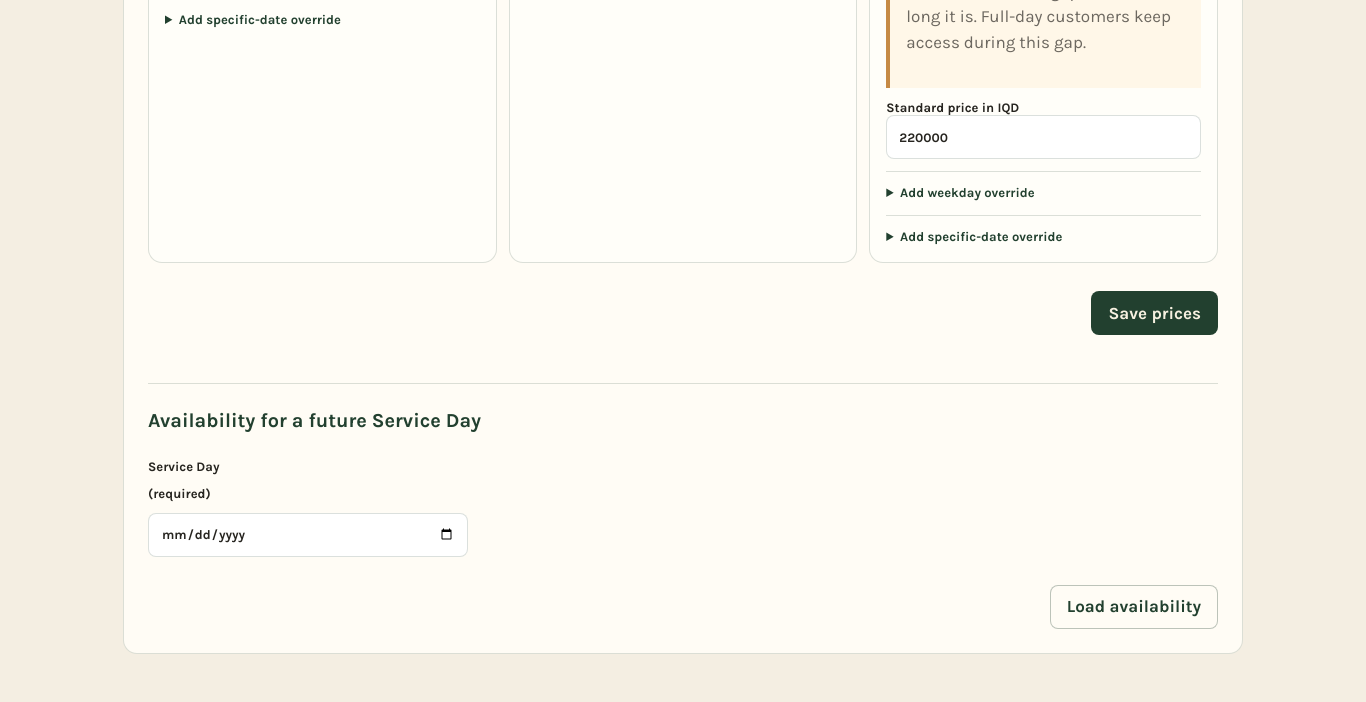
Test: Cottage Pricing and Availability editor › shows only the authoritative states returned for the selected Service Day
(page scrolled)
In the date field labelled "Service Day (required)": (308, 535) [148,513,468,557], type "2099-08-20"
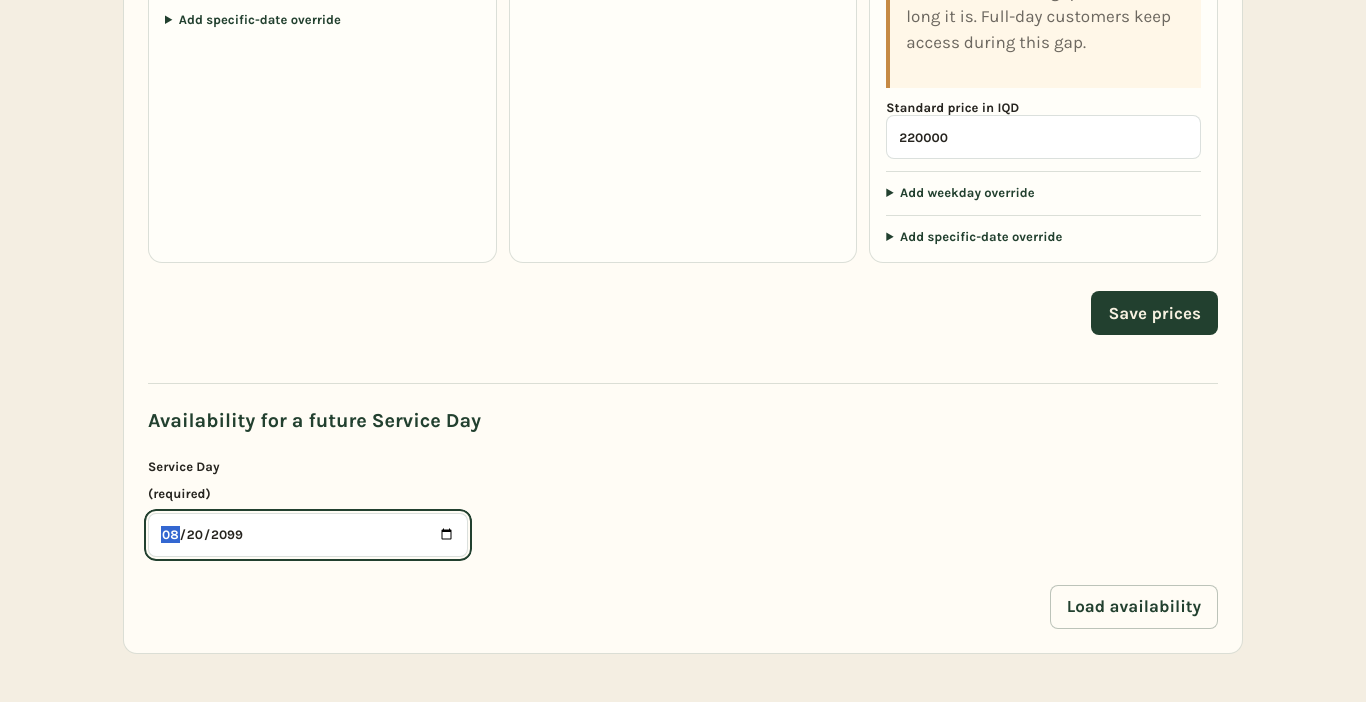
Click the button "Load availability": click(1134, 607) [1050,585,1218,629]
(page scrolled)
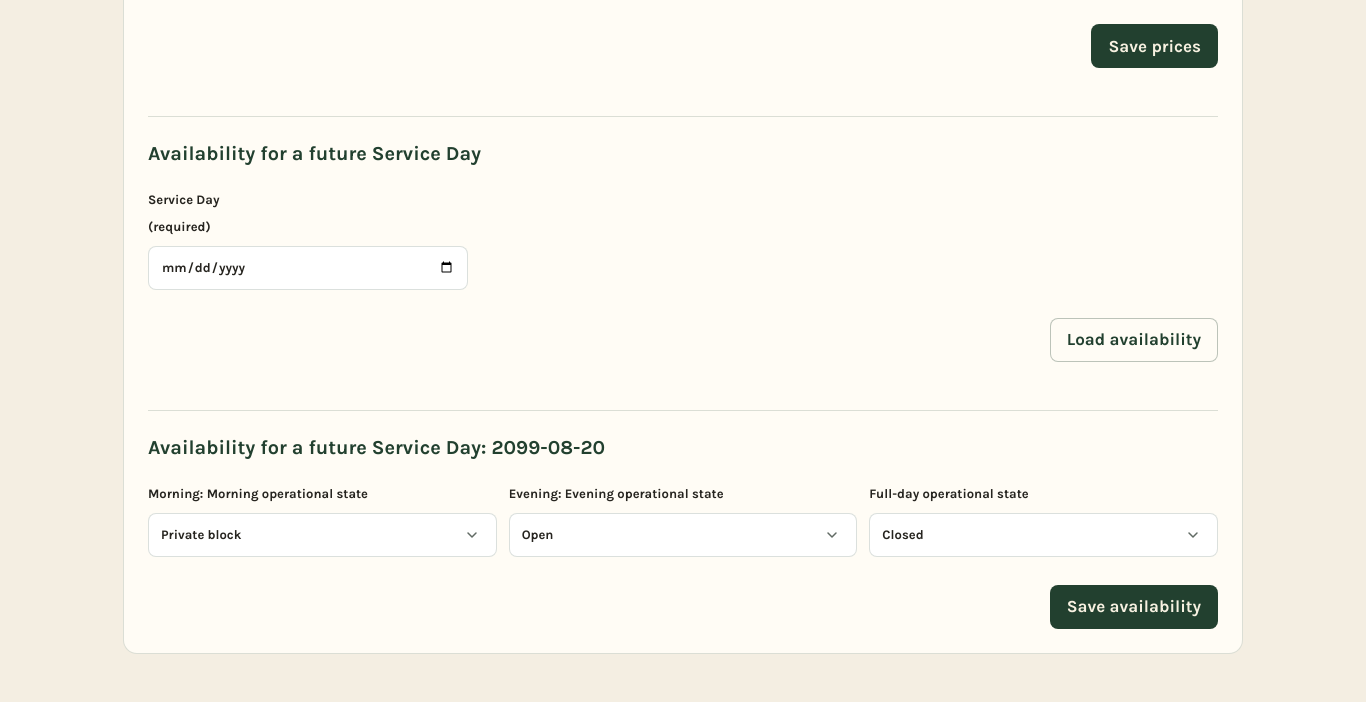
Result: the dropdown named "Morning: Morning operational state" shows "Private block" at [148,512,497,556]
Result: the dropdown named "Evening: Evening operational state" shows "Open" at [509,512,857,556]
Result: the dropdown named "Full-day operational state" shows "Closed" at [869,512,1218,556]
